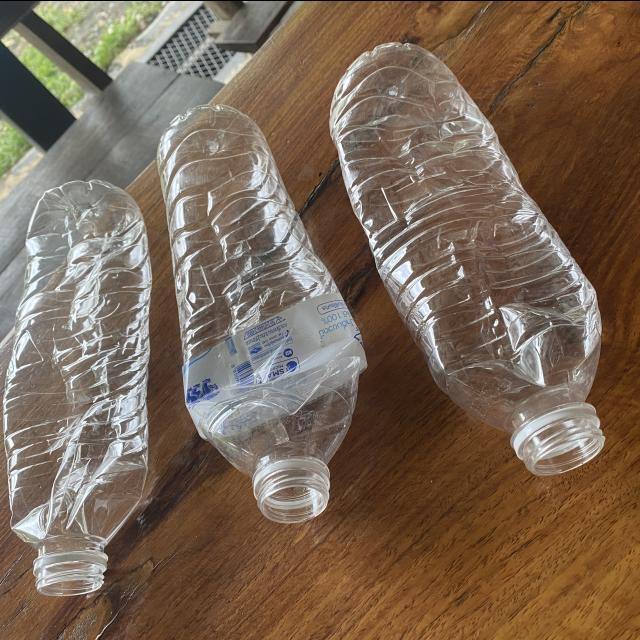plastik: (330, 41, 604, 474), (157, 104, 367, 522), (3, 179, 152, 595)
